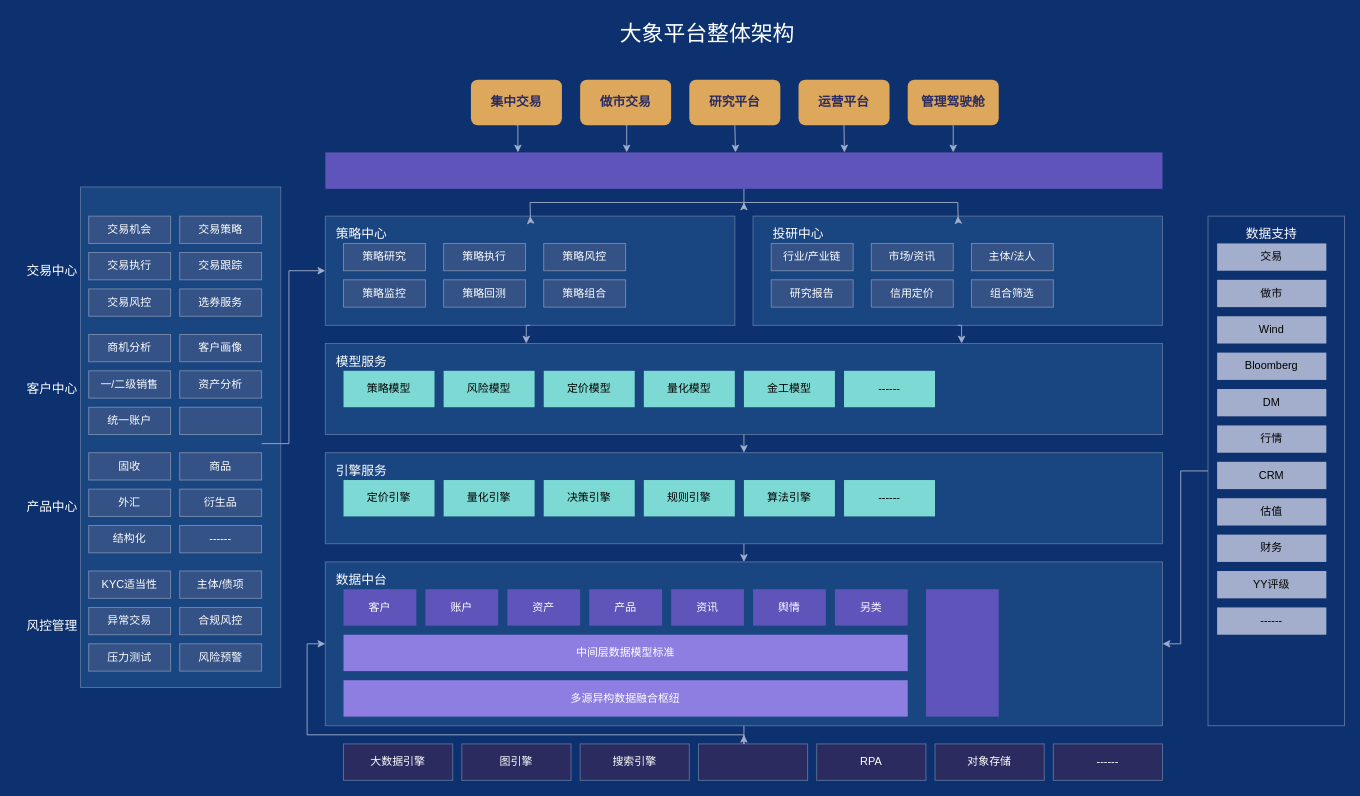
This 1360x796 diagram has some shape labels left out. Each missing label, with the centre of its shape:
"NLP" belongs at pixel 753 761.
"数据资产治理" belongs at pixel 961 652.
"统一接入服务网关" belongs at pixel 743 170.
"顾问服务" belongs at pixel 220 420.
